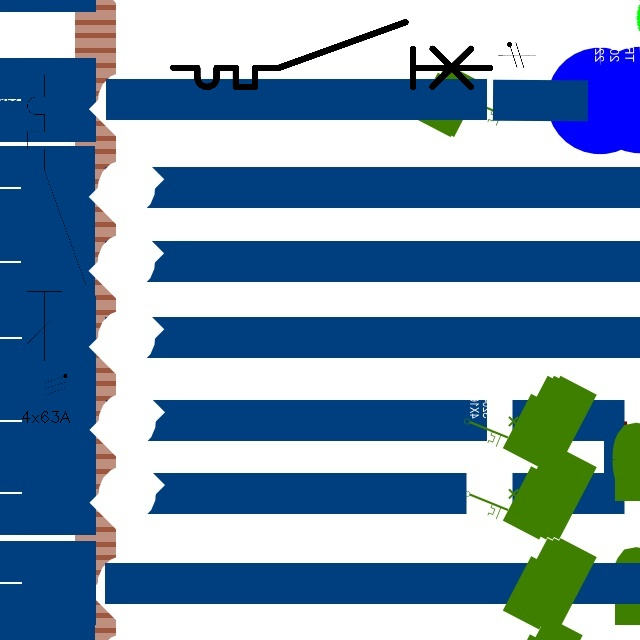interruptor_termomagnetico: (165, 14, 499, 95), (20, 68, 93, 368)
